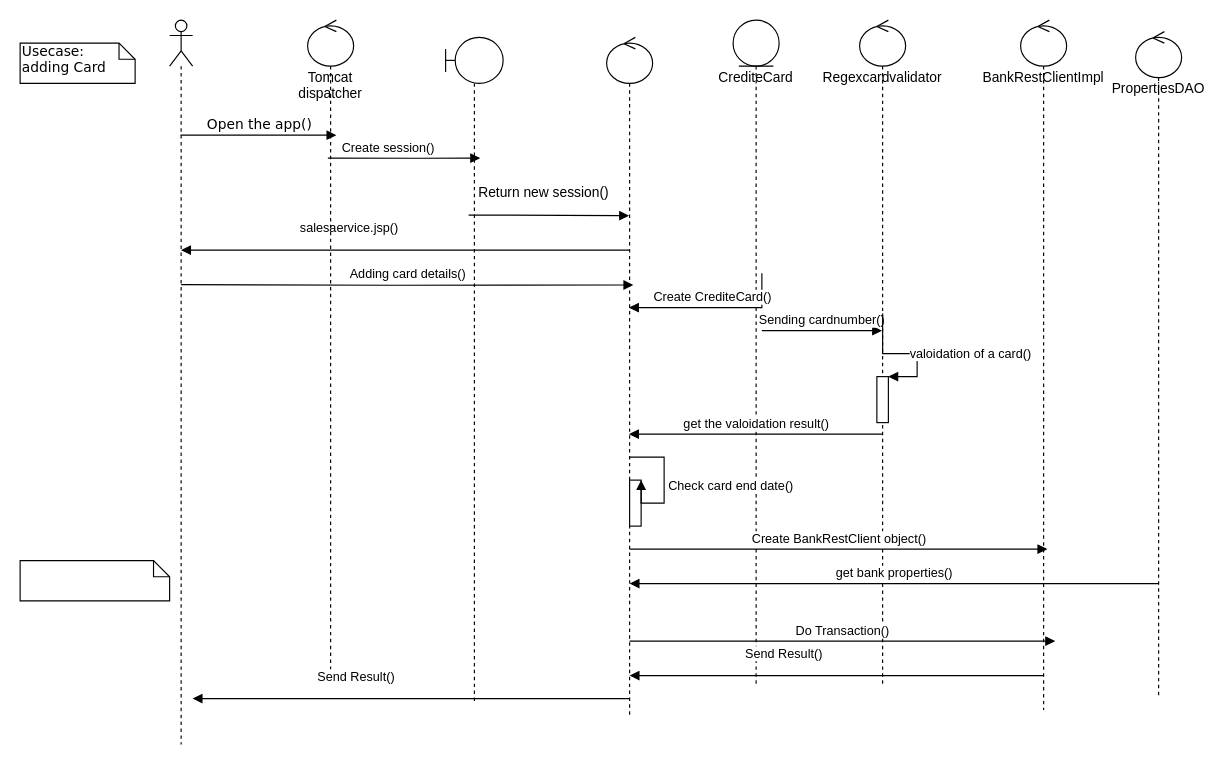
Image size: 1225x765. Some labels were removed from this diagram. Each missing label, with the box of its shape:
MVC Controller: (605, 36, 653, 716)
Session: (444, 36, 503, 704)
Usecase:Transction: (19, 559, 170, 601)
